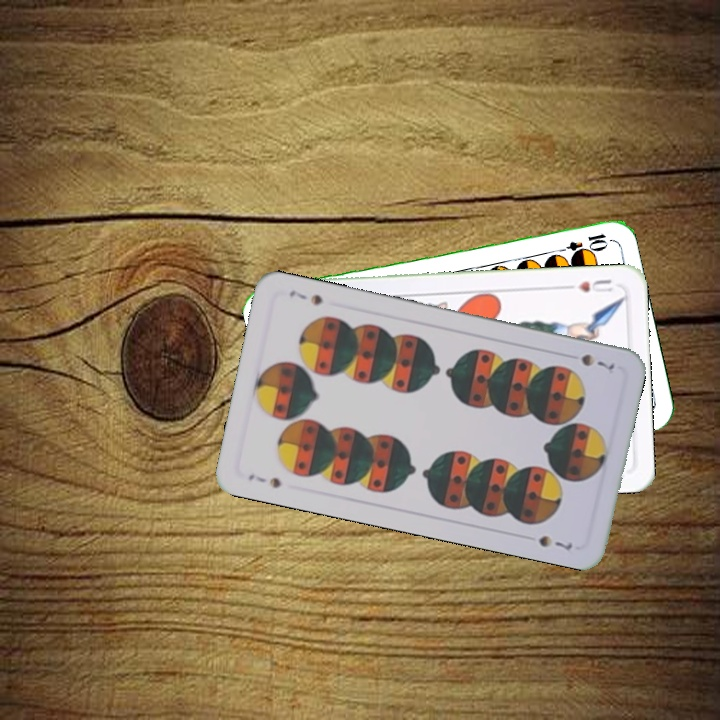E10: (551, 229, 610, 255)
HU: (562, 275, 615, 295)
S7: (577, 350, 617, 373), (244, 470, 284, 491)
